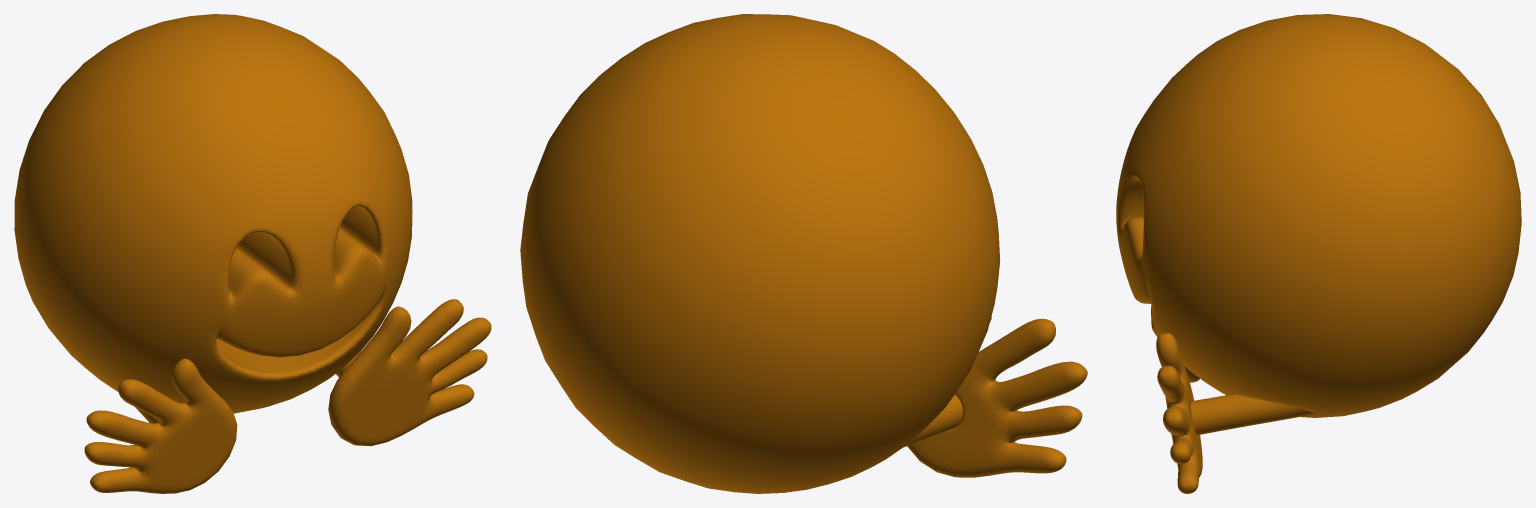
The model's file is hugging.FBX.
3 renders of one model, left to right at view 1: azimuth 30°, elevation 25°; view 2: azimuth 150°, elevation 25°; view 3: azimuth 270°, elevation 25°, orthographic. The views are drawn at different scales.
Visible parts, largest first — view 1: Group21149, Group41347, Group14637; view 2: Group21149, Group14637; view 3: Group21149, Group41347.
Part boxes in pixels (x1,y1,x2,y2): Group21149: [14, 14, 412, 413]; Group41347: [328, 299, 491, 446]; Group14637: [84, 358, 237, 493]; Group21149: [520, 14, 1000, 493]; Group14637: [904, 316, 1087, 477]; Group21149: [1116, 14, 1521, 417]; Group41347: [1156, 333, 1317, 493].
Size of the model in its own units: 26.51 by 24.46 by 22.98.
